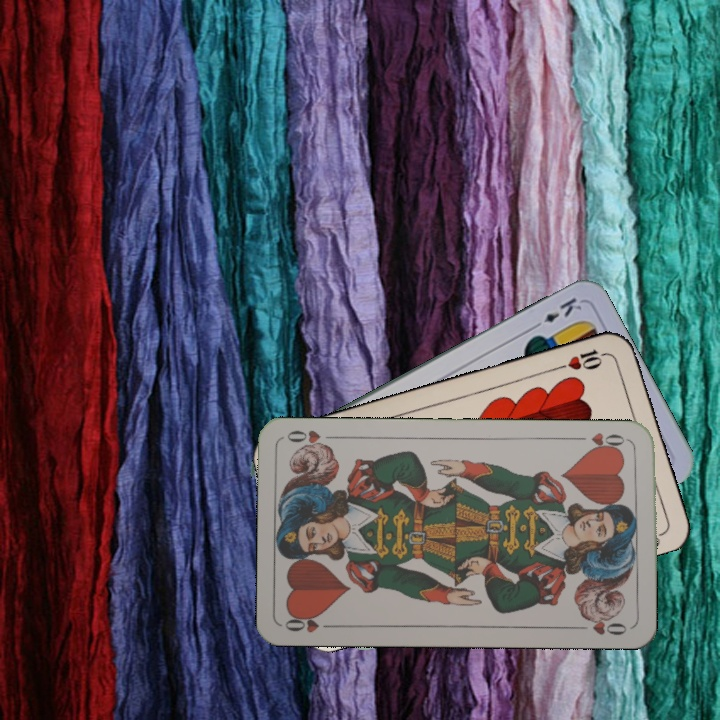EK: (528, 293, 585, 332)
H10: (553, 345, 611, 373)
HO: (573, 428, 632, 454), (281, 610, 340, 636)
